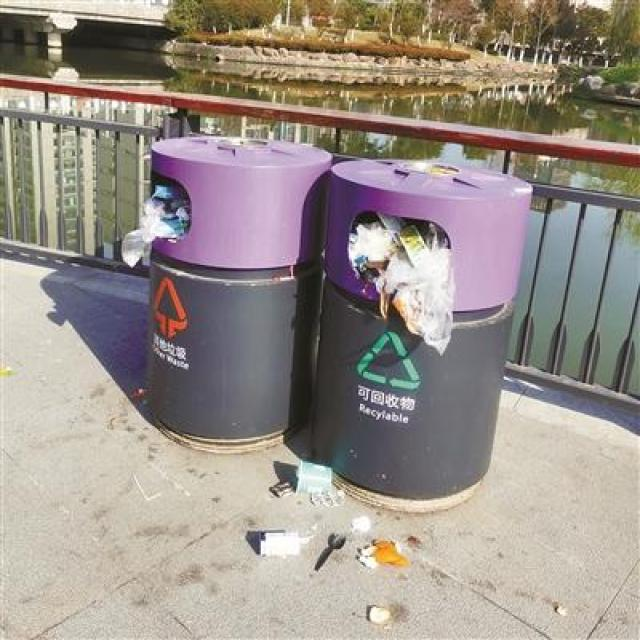garbage: (259, 460, 410, 624)
overflow: (325, 158, 533, 500), (118, 134, 330, 437)
